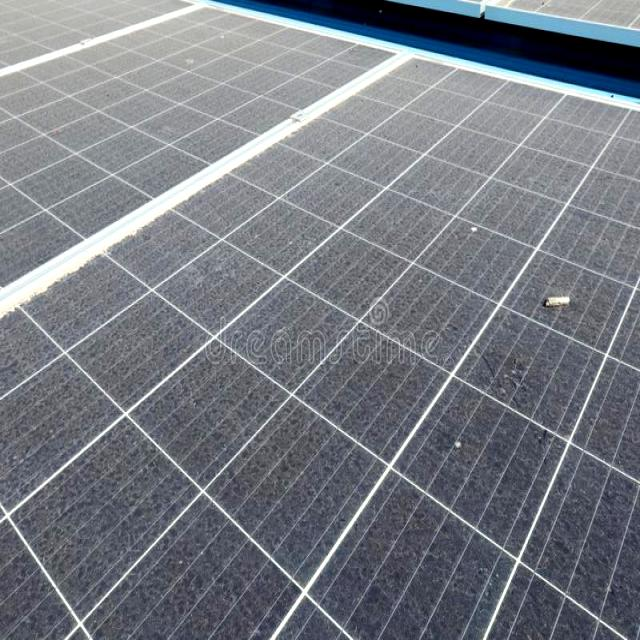dust: (0, 428, 139, 604), (190, 198, 316, 386), (350, 218, 510, 352), (14, 58, 138, 222), (149, 418, 280, 564), (320, 479, 522, 562), (352, 95, 500, 203), (306, 378, 507, 453), (542, 143, 638, 294), (536, 323, 632, 467), (53, 266, 159, 392), (164, 21, 276, 130), (144, 582, 294, 640), (469, 582, 608, 636), (540, 496, 639, 558), (528, 271, 597, 328)
